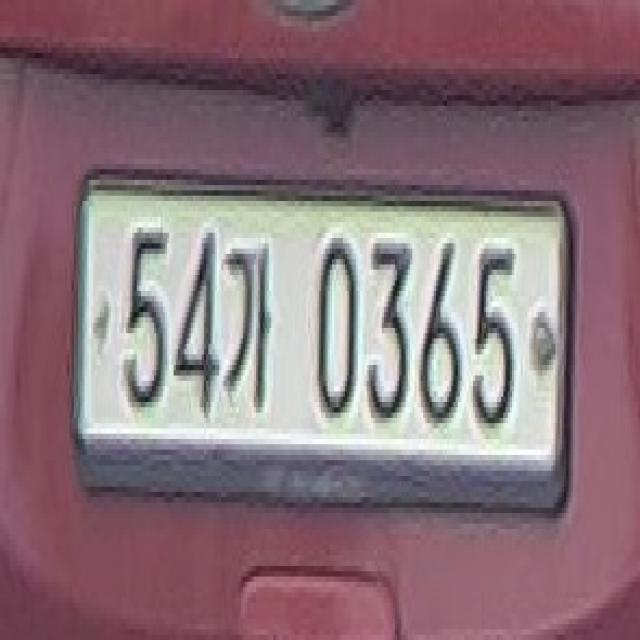0: (308, 217, 362, 423)
3: (362, 228, 414, 423)
4: (167, 201, 226, 423)
5: (473, 217, 518, 439), (124, 211, 171, 418)
6: (421, 227, 468, 439)
ga: (222, 222, 276, 413)
license_plate: (72, 169, 575, 534)
